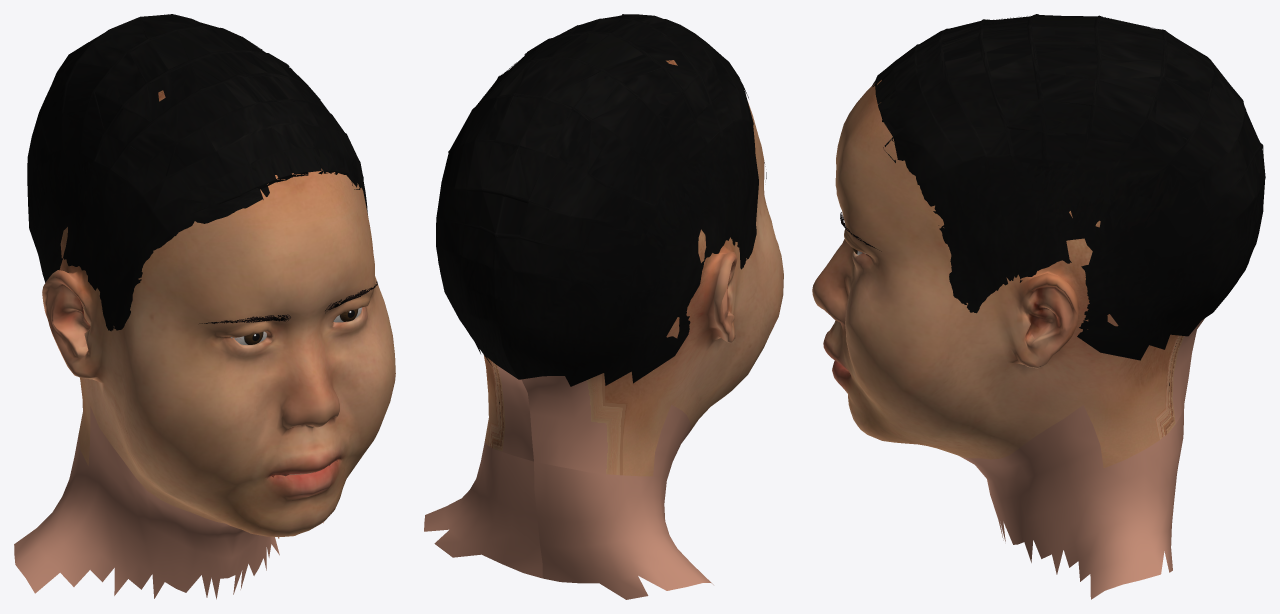
Rendered from hero_golf_head_matuya.glb.
3 views of the same model, side by side, from view 1: azimuth 30°, elevation 25°; view 2: azimuth 150°, elevation 25°; view 3: azimuth 270°, elevation 25° (orthographic). The views are drawn at different scales.
Parts seen in each view (by area): view 1: head_skull, mpfb_hair, mpfb_brows, mpfb_eyes; view 2: mpfb_hair, head_skull; view 3: mpfb_hair, head_skull.
Part boxes in pixels (left/top/right/bottom): head_skull: left=14, top=90, right=395, bottom=599; mpfb_hair: left=27, top=14, right=367, bottom=331; mpfb_brows: left=199, top=281, right=377, bottom=323; mpfb_eyes: left=230, top=307, right=362, bottom=344; mpfb_hair: left=436, top=14, right=758, bottom=386; head_skull: left=424, top=60, right=783, bottom=599; mpfb_hair: left=871, top=14, right=1265, bottom=360; head_skull: left=812, top=80, right=1204, bottom=599.
Size of the model in its own units: 0.2314 by 0.4011 by 0.3211.
4 materials, 4 textured.
